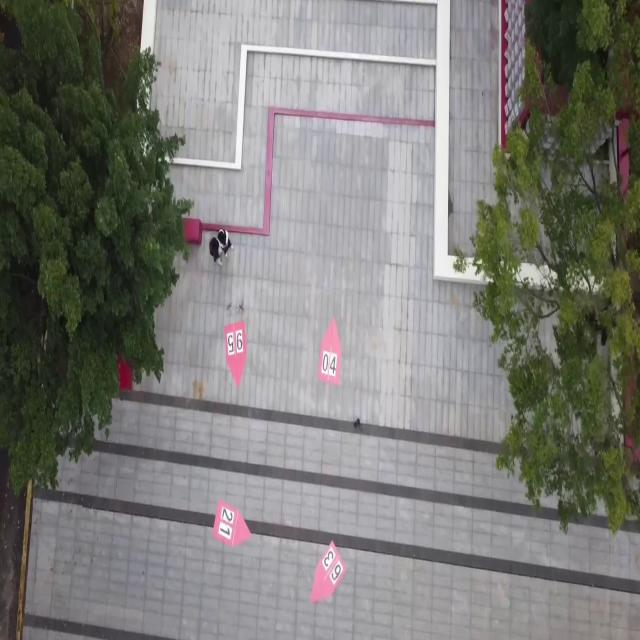-sign-: (310, 540, 348, 604), (211, 499, 250, 548), (223, 318, 248, 389), (318, 316, 342, 387)
